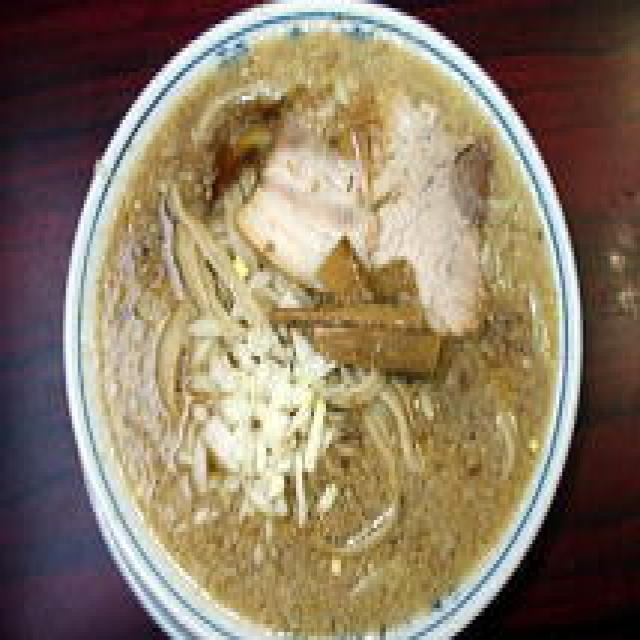面条主食: (48, 0, 586, 640)
